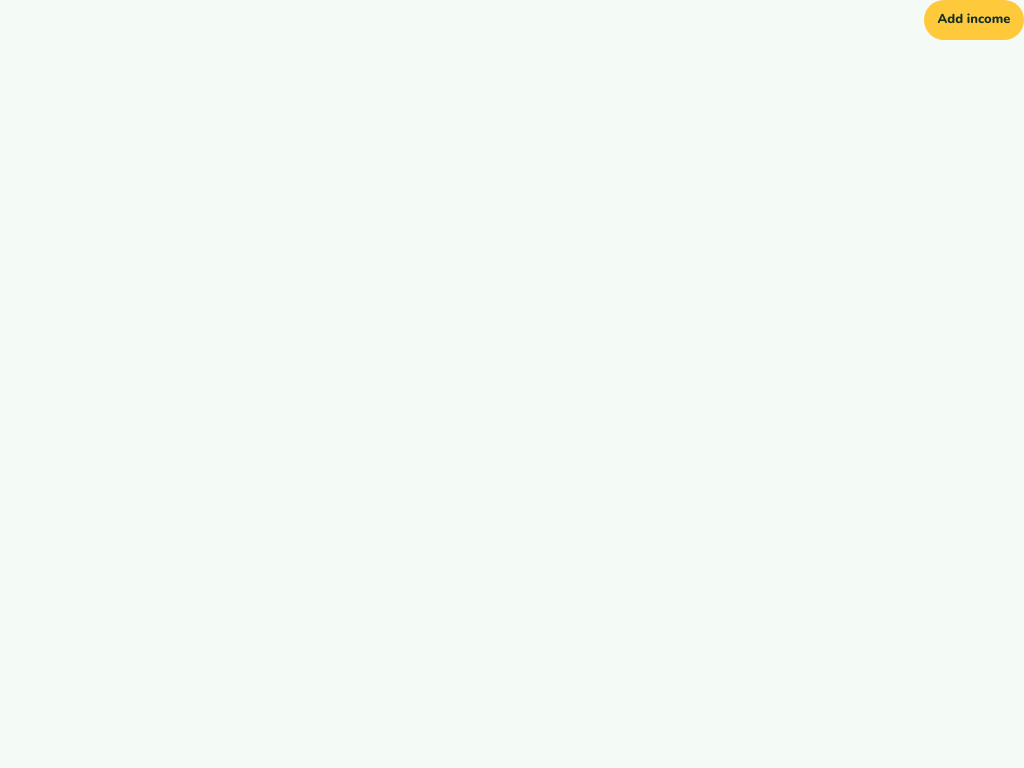
Test: payday checklist › a payday without a breakdown still asks whether the estimate is right
Click the button "Add income". click: (974, 20)
box: x1=924 y1=0 x2=1023 y2=40
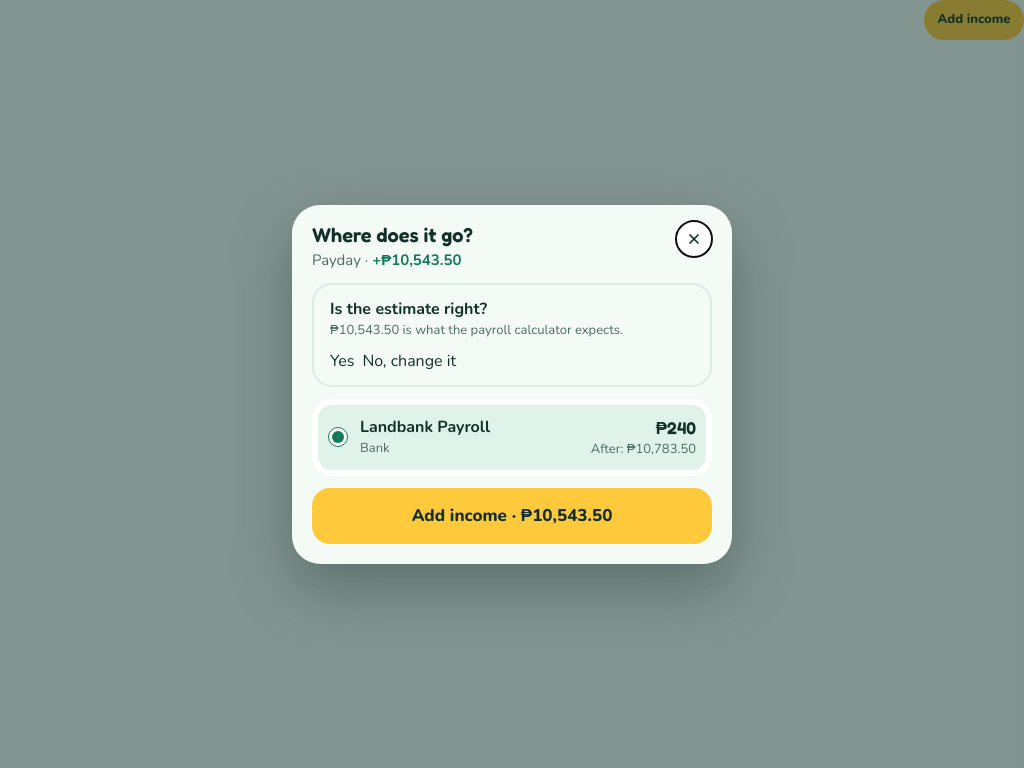
Result: the text "Is the estimate right?" is shown at x1=330 y1=298 x2=487 y2=320
